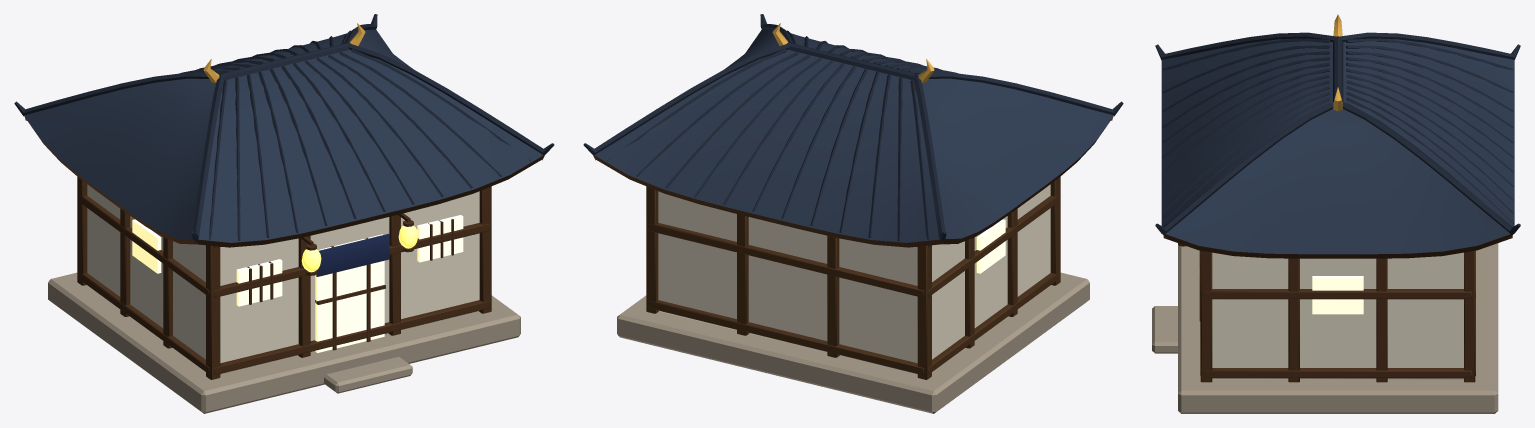
File: house.glb
3 renders of one model, left to right at view 1: azimuth 30°, elevation 25°; view 2: azimuth 150°, elevation 25°; view 3: azimuth 270°, elevation 25°, orthographic. The views are drawn at different scales.
Parts seen in each view (by area): view 1: house; view 2: house; view 3: house.
Boxes of the visible parts, <box> form: house: <box>14,14,554,413</box>; house: <box>583,14,1123,413</box>; house: <box>1152,14,1520,413</box>.
Size of the model in its own units: 7.49 by 5.5 by 6.45.
